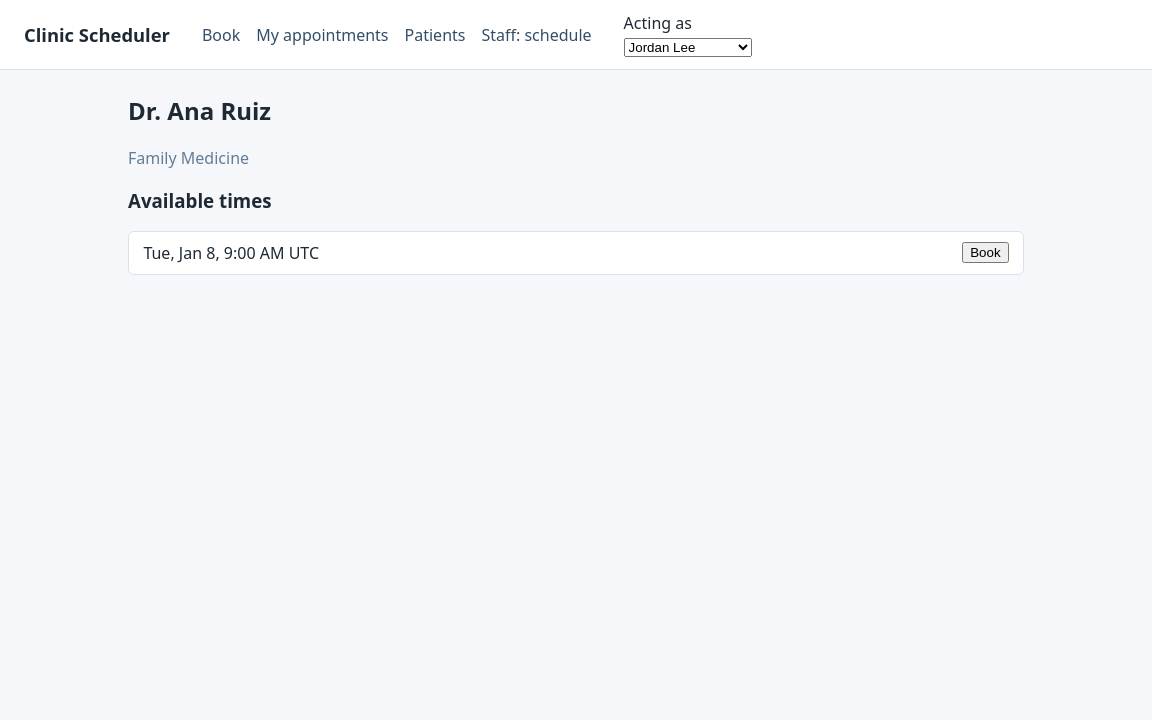
Test: ProviderPage › shows API errors in the error banner
Click the button with test id "slot-book-slt_1" at (985, 253), box [962, 242, 1009, 263]
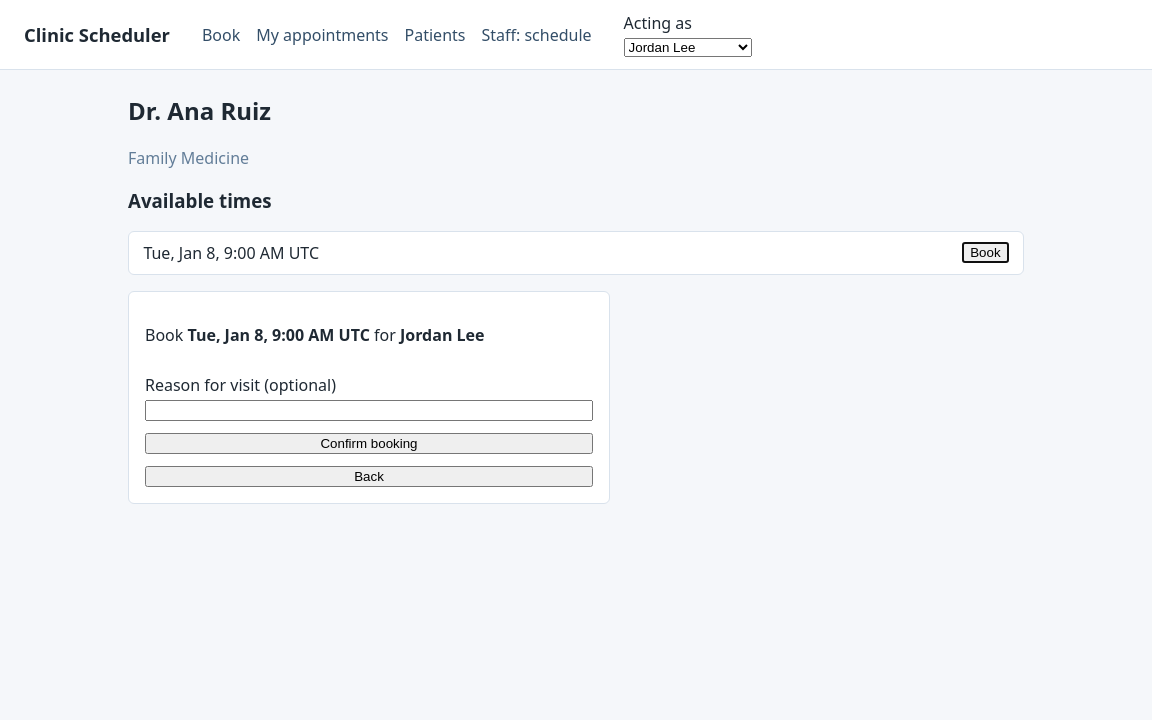
Click the button with test id "booking-submit" at (369, 443), box [145, 432, 593, 454]
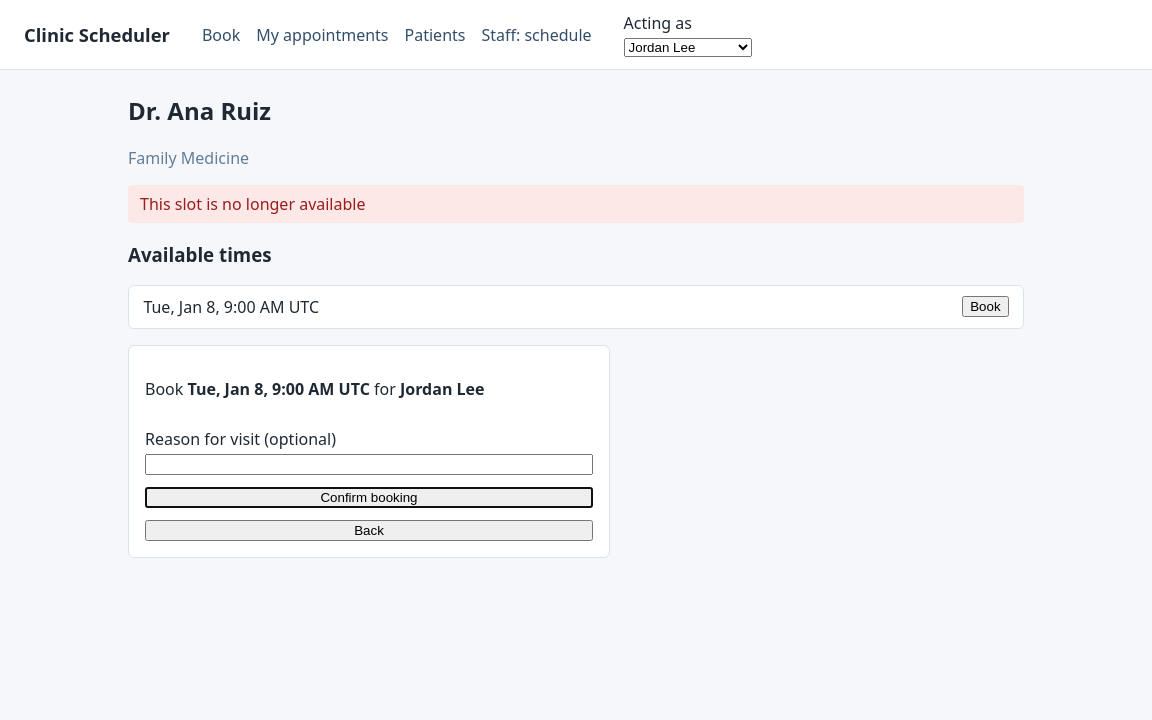
Check: the message with test id "error-banner" shows "no longer available", box [140, 193, 366, 215]
